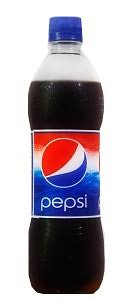pepsi_bottle: (27, 17, 106, 295)
